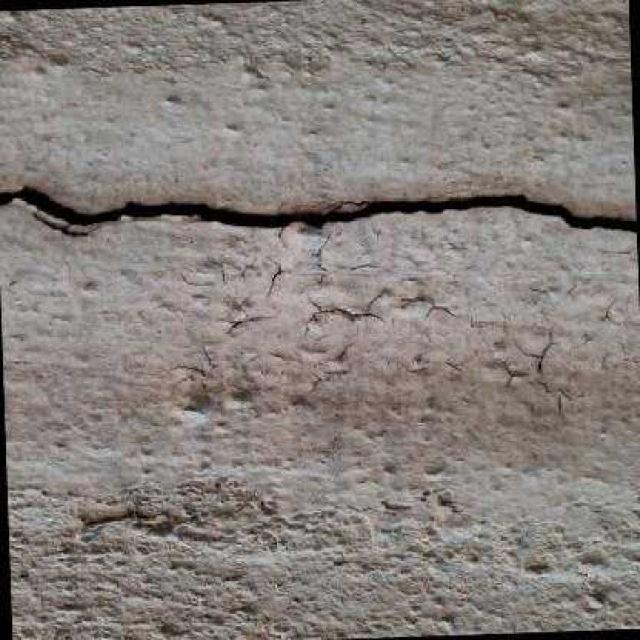D00: (0, 184, 637, 234), (29, 211, 88, 237)
